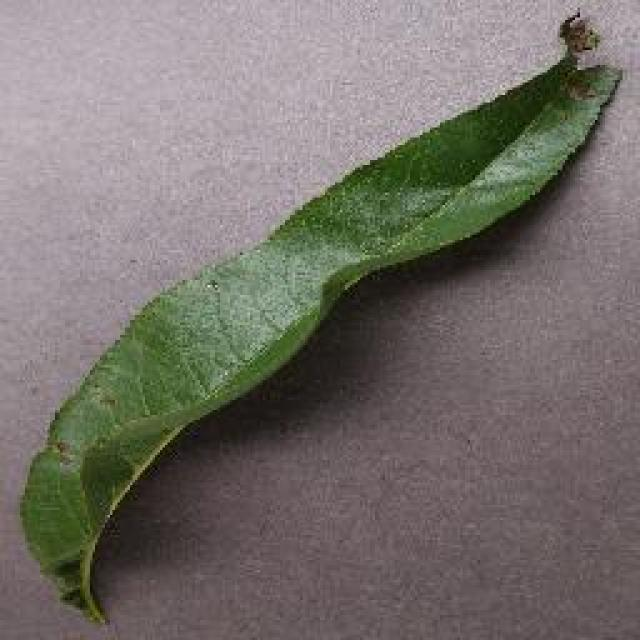Peach_Bacterial_Spot: (75, 290, 227, 473)
